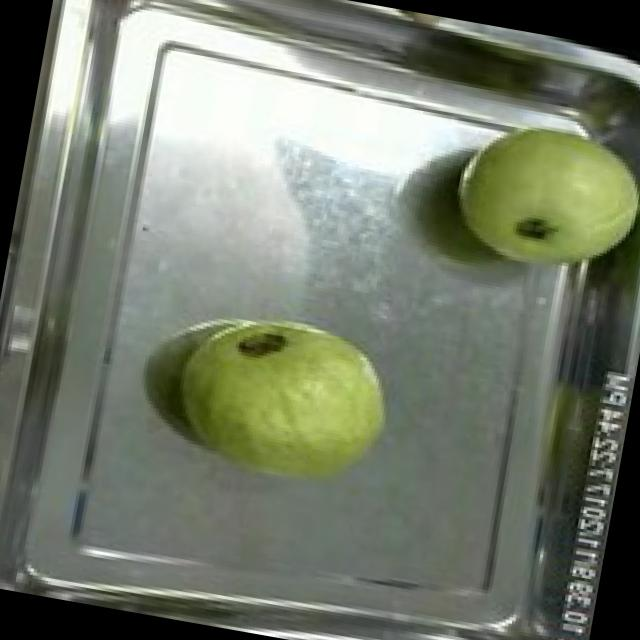Fruit: (154, 290, 412, 510), (428, 87, 640, 297)
